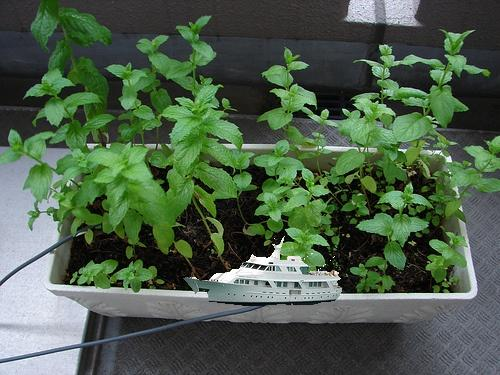tampered: (184, 237, 342, 306)
